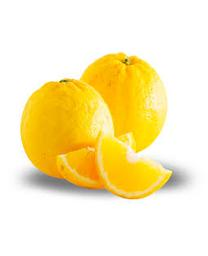lemon: (22, 78, 115, 177), (80, 54, 168, 151), (97, 130, 173, 201), (59, 131, 135, 191)
